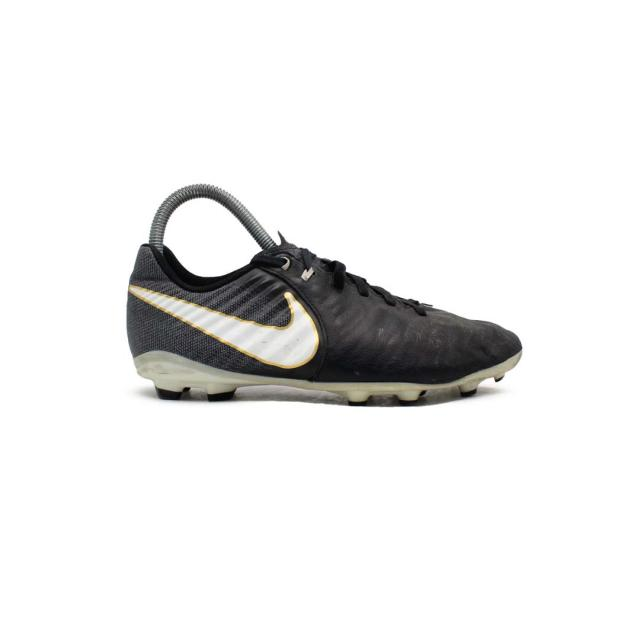heel: (124, 239, 176, 352)
midsole: (133, 348, 525, 409)
uppersole: (175, 243, 520, 380)
